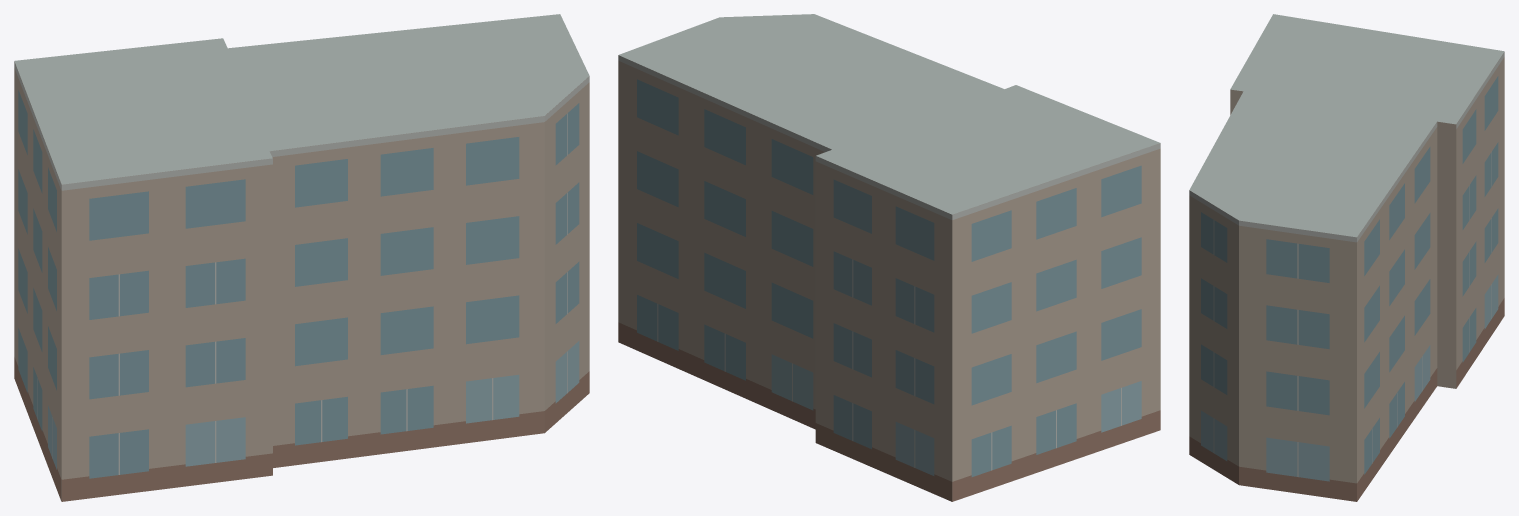
The model's file is survey-upis-32772085.glb.
3 renders of one model, left to right at view 1: azimuth 30°, elevation 25°; view 2: azimuth 150°, elevation 25°; view 3: azimuth 270°, elevation 25°, orthographic. The views are drawn at different scales.
Parts seen in each view (by area): view 1: survey-upis-32772085.tmp; view 2: survey-upis-32772085.tmp; view 3: survey-upis-32772085.tmp.
Boxes of the visible parts, x1,y1,x2,y2 form: survey-upis-32772085.tmp: (14, 14, 589, 501); survey-upis-32772085.tmp: (618, 14, 1160, 501); survey-upis-32772085.tmp: (1189, 14, 1504, 501).
Size of the model in its own units: 22.82 by 12.6 by 13.62.
